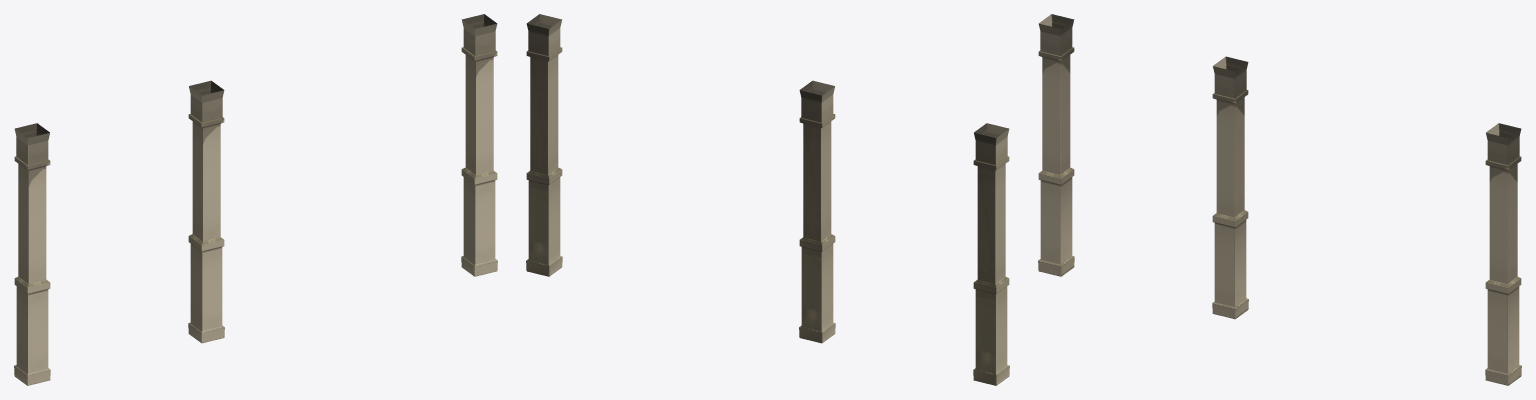
The model's file is pillars.obj.
The picture shows the model from 3 angles, left to right: view 1: azimuth 30°, elevation 25°; view 2: azimuth 150°, elevation 25°; view 3: azimuth 330°, elevation 25°; orthographic projection.
Parts seen in each view (by area): view 1: pillars1; view 2: pillars1; view 3: pillars1.
Part boxes in pixels (<box>): pillars1: <box>14,14,497,385</box>; pillars1: <box>526,14,1009,385</box>; pillars1: <box>1038,14,1521,385</box>.
Bounding box in the file's own units: 5.7 × 2.87 × 0.2818.
Materials: 1 (1 with a texture image).
